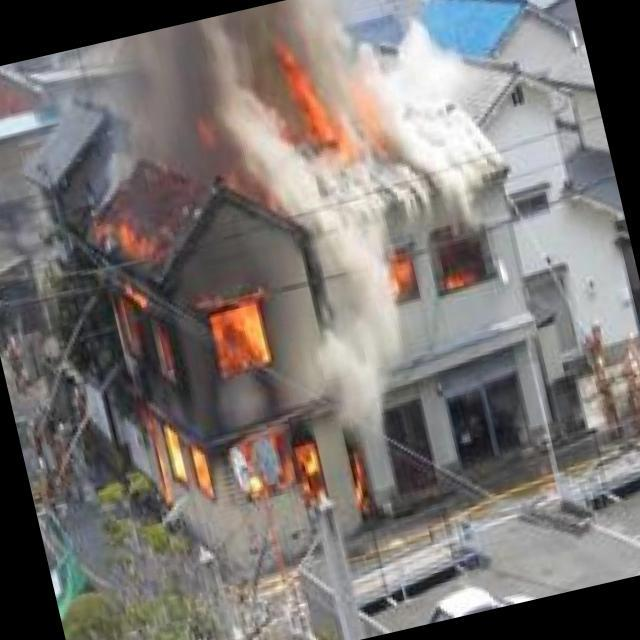Fire: (84, 165, 338, 553), (276, 31, 395, 177), (390, 246, 491, 310)
